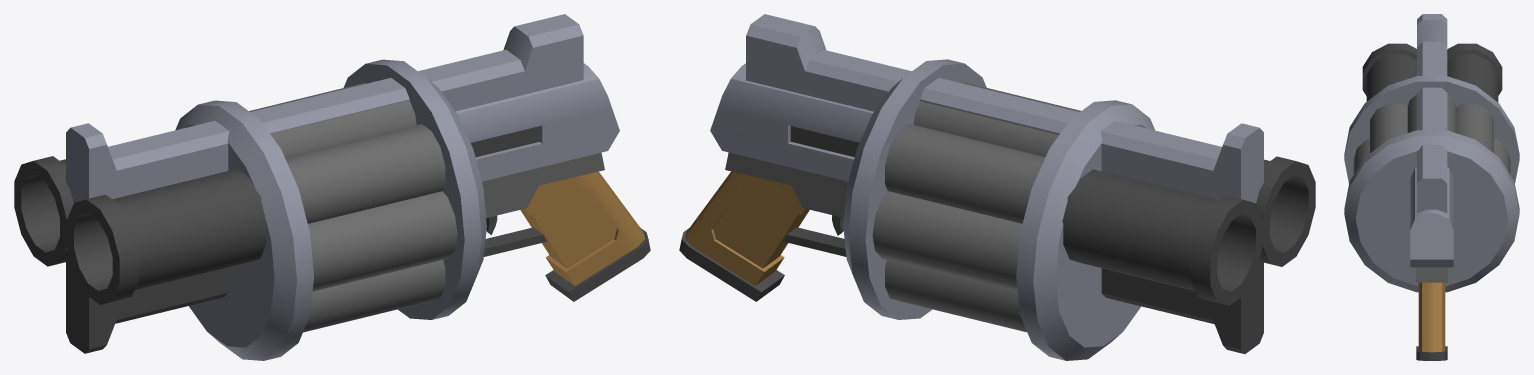
The model's file is quaternius-toon-shooter-game-grenadelauncher.glb.
3 renders of one model, left to right at view 1: azimuth 30°, elevation 25°; view 2: azimuth 150°, elevation 25°; view 3: azimuth 270°, elevation 25°, orthographic. The views are drawn at different scales.
Visible parts, largest first — view 1: GrenadeLauncher; view 2: GrenadeLauncher; view 3: GrenadeLauncher.
Part boxes in pixels (box(x1,y1,x2,y2)): GrenadeLauncher: box(14, 14, 650, 360); GrenadeLauncher: box(679, 14, 1315, 360); GrenadeLauncher: box(1344, 14, 1519, 360).
Size of the model in its own units: 1.2 by 0.5549 by 0.4779.
